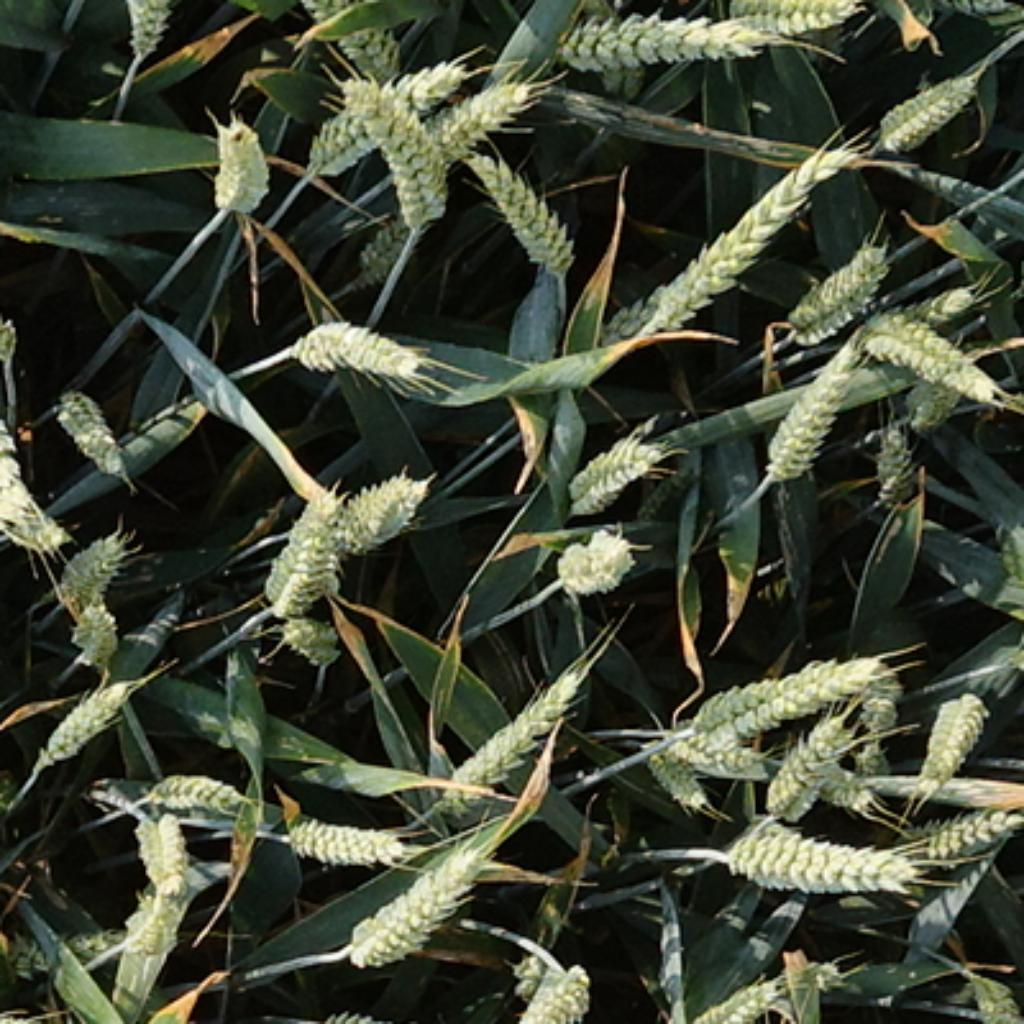0-0: (591, 133, 860, 345), (430, 655, 586, 814), (660, 647, 885, 737), (340, 834, 491, 967), (320, 76, 453, 227), (304, 53, 465, 176), (542, 2, 791, 79), (389, 71, 545, 181), (860, 307, 1018, 412), (716, 814, 921, 893), (468, 135, 583, 268), (762, 340, 870, 478), (258, 476, 363, 606), (778, 225, 893, 337), (760, 719, 880, 821), (289, 304, 432, 384), (872, 61, 990, 153), (322, 460, 432, 552), (558, 427, 665, 512), (299, 2, 419, 74), (0, 914, 137, 975), (38, 675, 133, 762), (276, 803, 414, 862), (202, 107, 276, 215), (913, 693, 988, 798), (501, 942, 593, 1024), (51, 384, 130, 478), (706, 2, 867, 46), (547, 524, 640, 599), (911, 798, 1018, 860), (48, 522, 128, 599), (117, 875, 194, 954), (343, 212, 424, 286), (143, 760, 253, 814), (680, 967, 778, 1024), (867, 286, 980, 332), (637, 747, 714, 814), (128, 803, 192, 883), (865, 414, 921, 501), (665, 724, 757, 775), (273, 599, 348, 660), (64, 588, 122, 657), (115, 2, 184, 58), (803, 762, 875, 814), (0, 500, 61, 556), (0, 429, 33, 531), (901, 371, 967, 422), (962, 970, 1021, 1024), (862, 663, 903, 734), (780, 947, 844, 990), (506, 952, 545, 1000), (857, 737, 890, 783), (742, 1021, 816, 1024)
